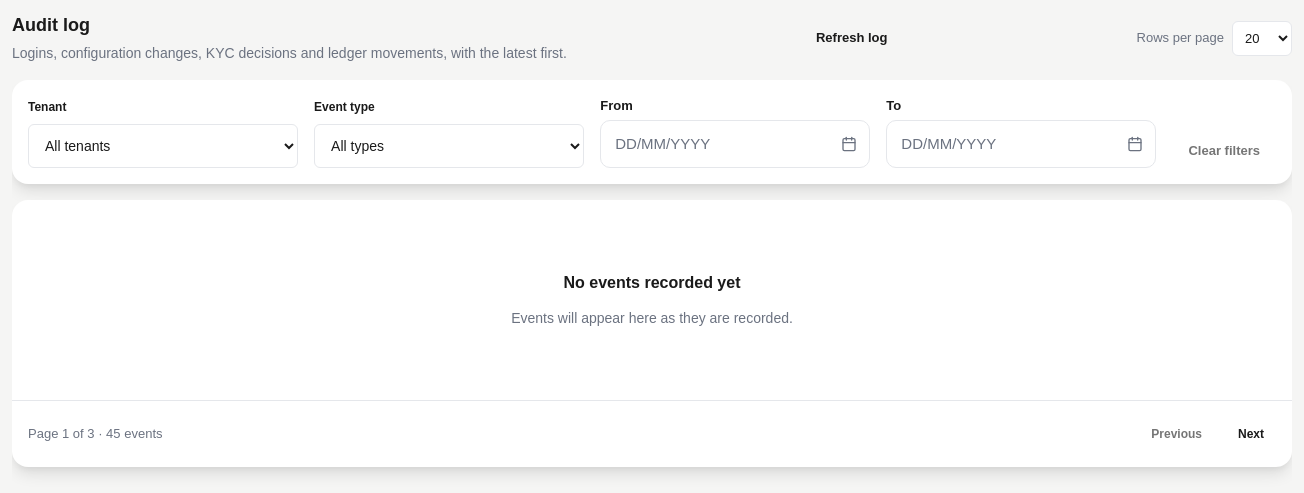
Test: AuditEventsPanel › explains running past the end of the log
The width and height of the screenshot is (1304, 493).
Click the button "Next" at (1251, 434), box [1226, 417, 1276, 451]
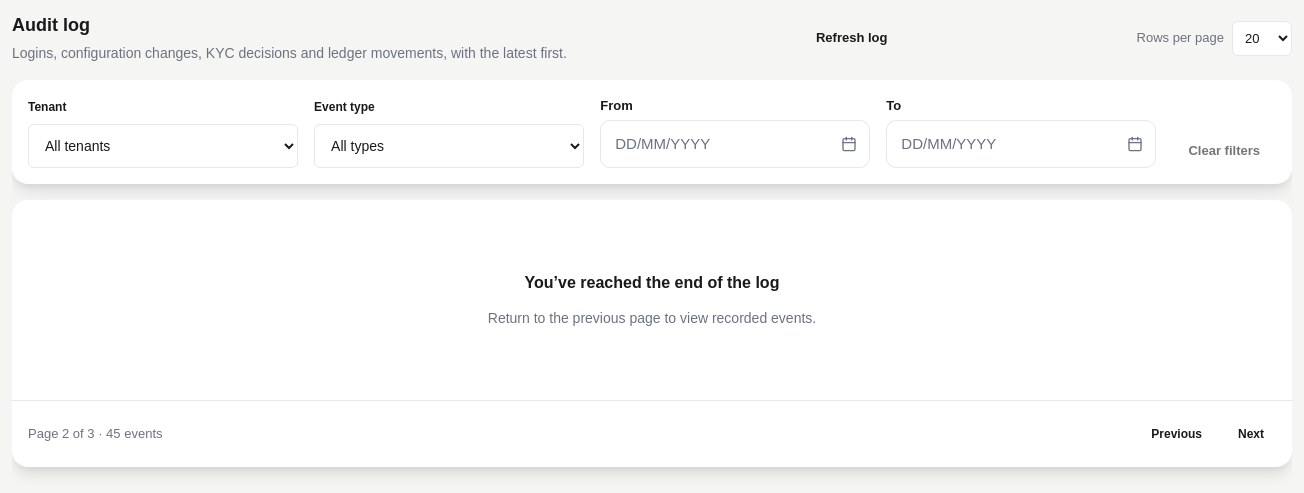
expect the text "You’ve reached the end of the log" is shown: met, box [525, 271, 780, 295]
